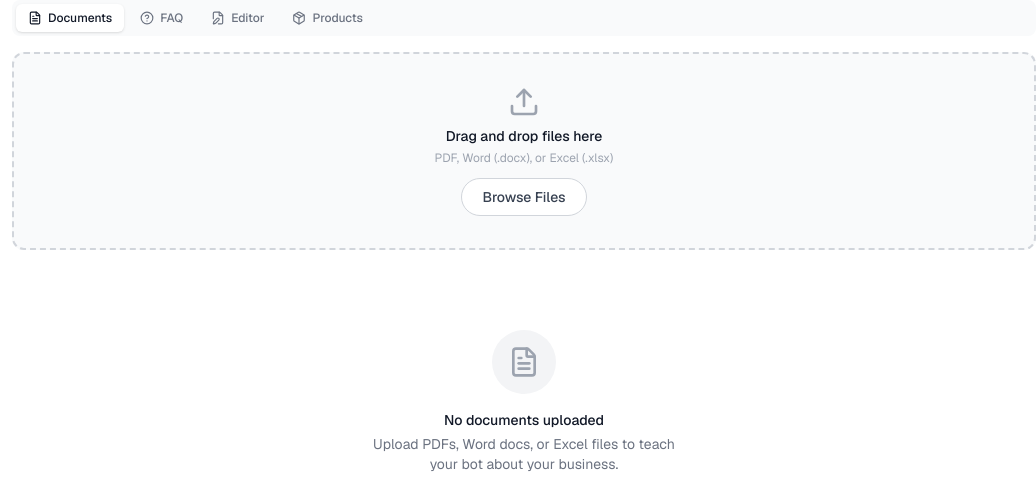
it: KnowledgePanel › switches to Products tab
Click the button "Products" at x=328, y=18, box x1=280 y1=4 x2=375 y2=32
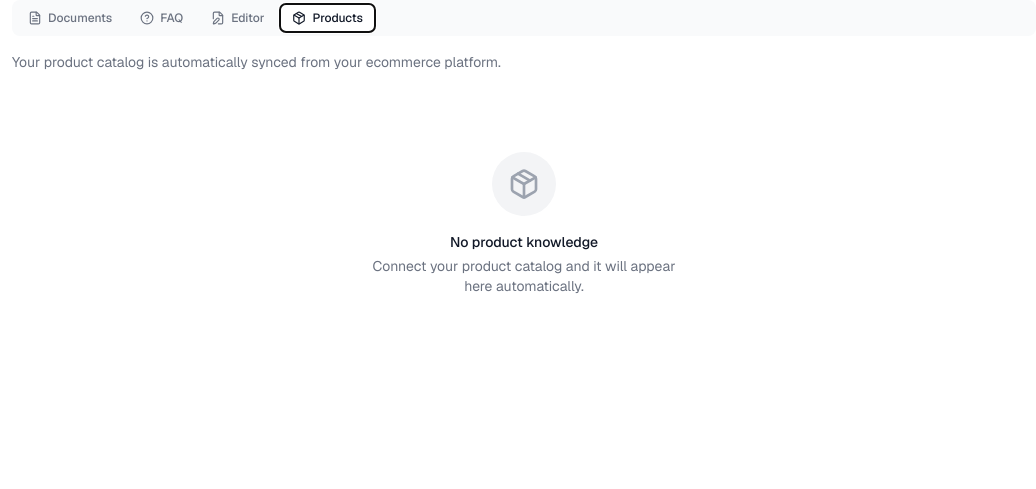
Now the heading "No product knowledge" is shown, box x1=450 y1=232 x2=598 y2=252
